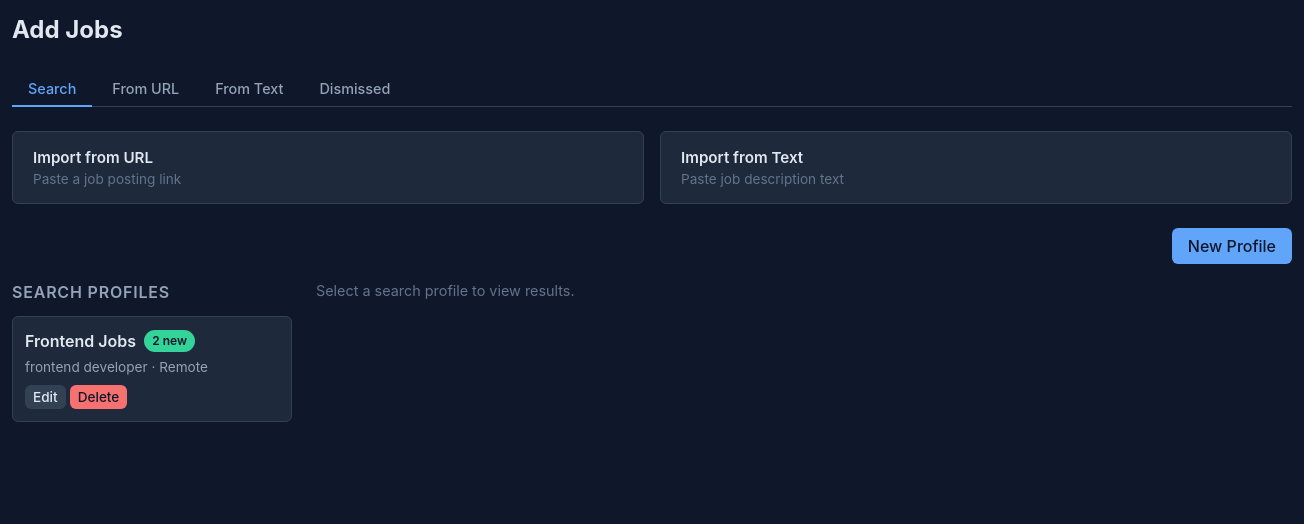
Test: Search Page — selectProfile loads persisted results › displays persisted postings after selecting a profile
This screenshot has width=1304, height=524.
Expected: the text "Frontend Jobs" is shown, [25,331,136,351]
Click the text "Frontend Jobs".
click(110, 341)  # box [25,330,195,352]
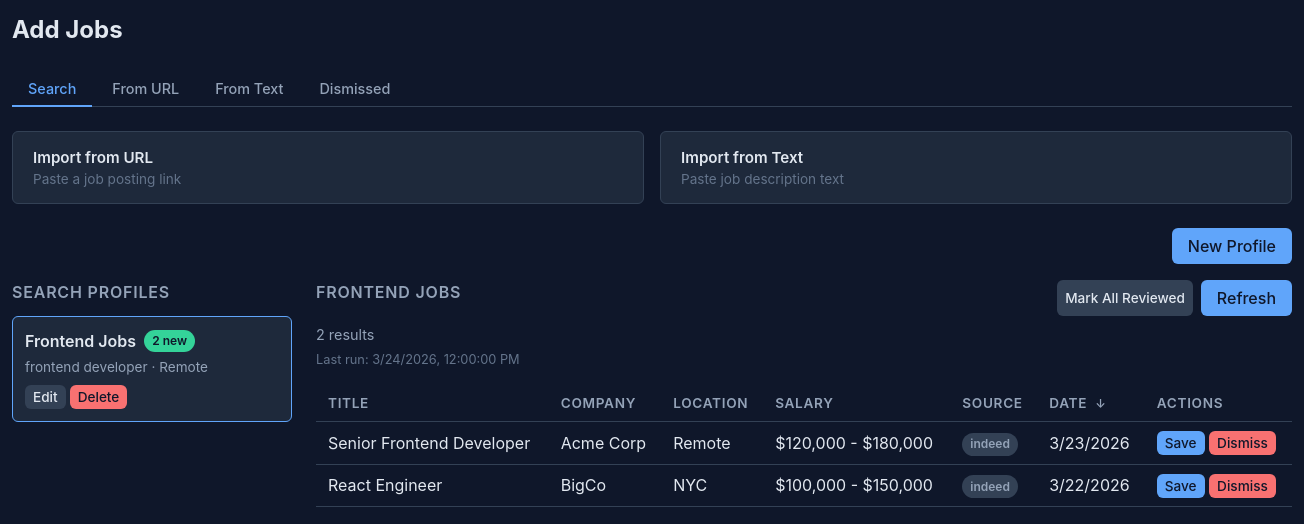
Now the text "Senior Frontend Developer" is shown, box [316,422,549,464]
Now the text "React Engineer" is shown, box [316,464,549,506]
